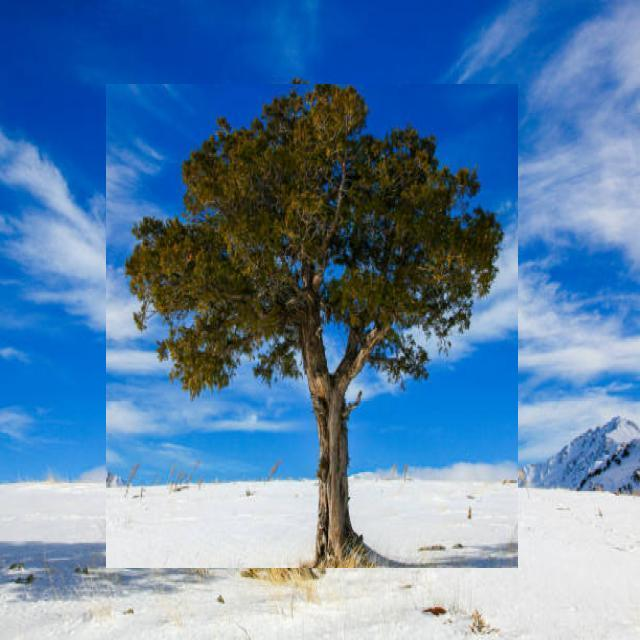tree: (106, 84, 518, 568)
